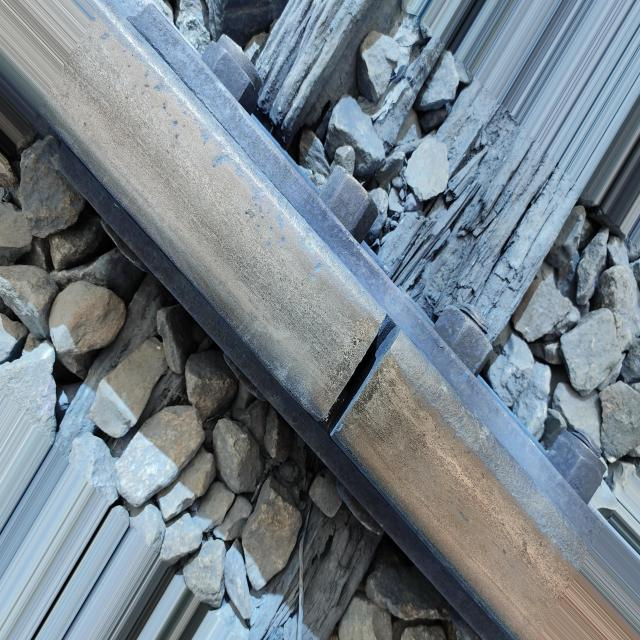crack: (293, 286, 425, 472)
